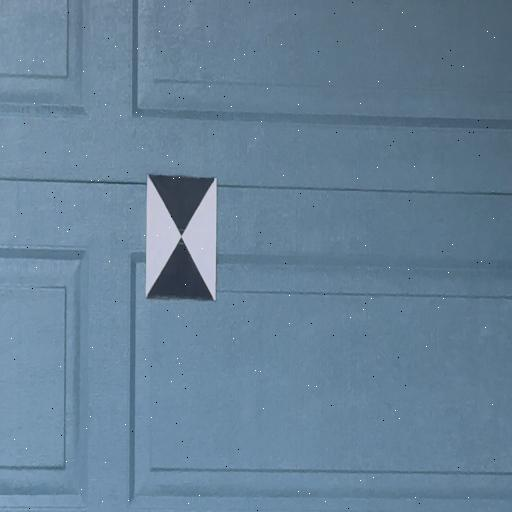target: (146, 174, 216, 301)
